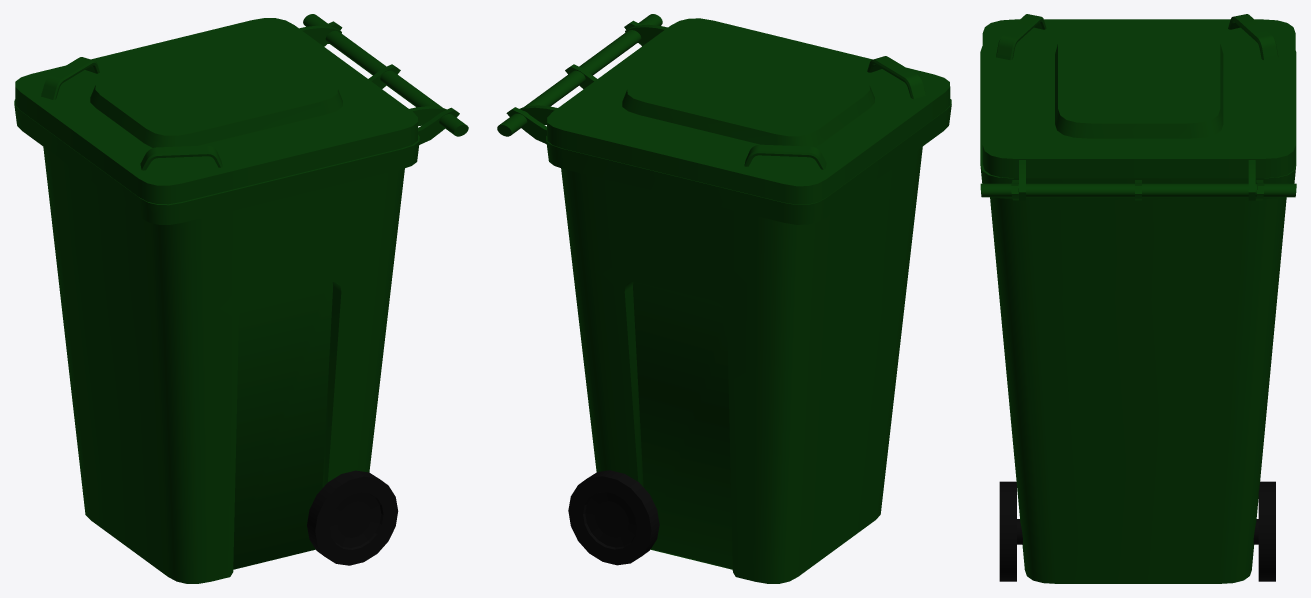
Rendered from Garden_Bin.fbx.
The picture shows the model from 3 angles, left to right: view 1: azimuth 30°, elevation 25°; view 2: azimuth 150°, elevation 25°; view 3: azimuth 270°, elevation 25°; orthographic projection. The views are drawn at different scales.
Visible parts, largest first — view 1: Bin, Bin_Lid, Bin_Wheels; view 2: Bin, Bin_Lid, Bin_Wheels; view 3: Bin, Bin_Lid, Bin_Wheels.
Part boxes in pixels (x1,y1,x2,y2): Bin: (14, 14, 468, 583); Bin_Lid: (15, 18, 446, 204); Bin_Wheels: (307, 470, 398, 565); Bin: (497, 14, 951, 583); Bin_Lid: (519, 18, 950, 204); Bin_Wheels: (568, 470, 659, 565); Bin: (980, 46, 1296, 583); Bin_Lid: (982, 14, 1295, 200); Bin_Wheels: (999, 481, 1275, 581).
Bounding box in the file's own units: 84.84 × 113 × 69.66.
